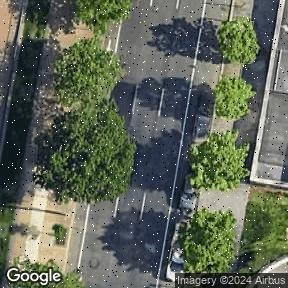vegetation: (188, 130, 251, 193), (188, 209, 235, 272), (213, 15, 261, 69), (208, 72, 253, 122), (45, 270, 84, 288)
